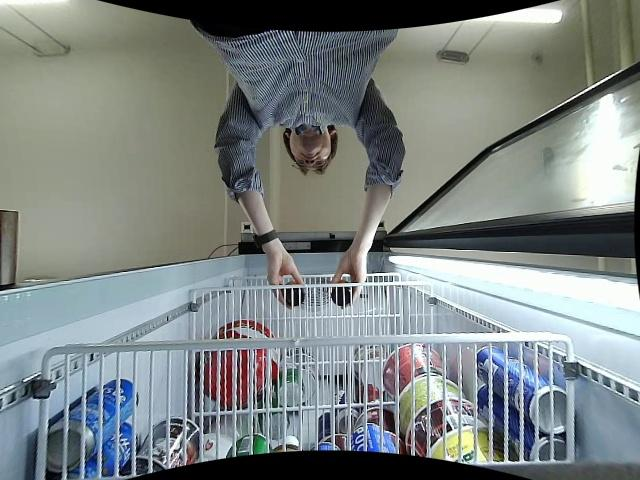00_hand: (267, 256, 307, 309), (329, 254, 367, 304)
17_vita500: (275, 282, 306, 308)
